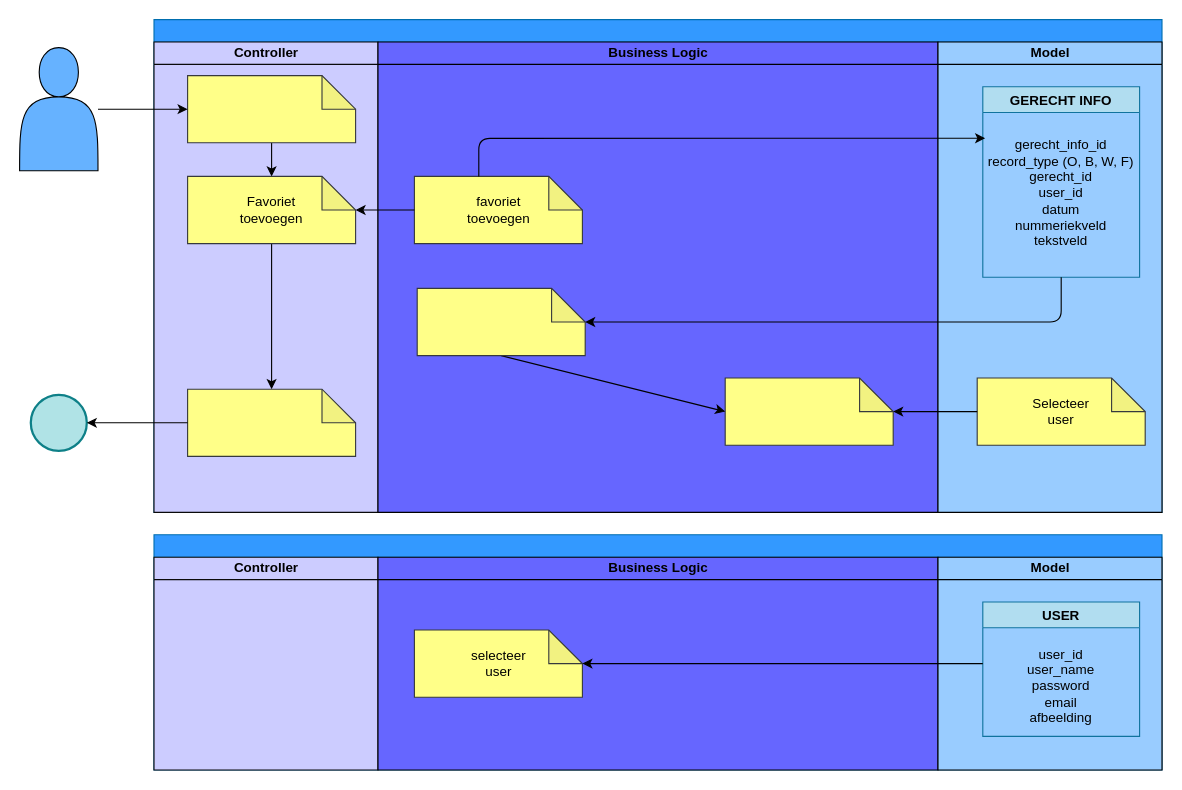
This 1182x790 diagram has some shape labels left out. The box of each missing label's shape, as (x1, y1, x2, y2) in pixels:
Favoriet tonen: (186, 388, 356, 456)
Initialisatie: (186, 74, 356, 143)
ophalen favoriet: (416, 287, 585, 356)
ophalen user: (724, 377, 893, 445)
